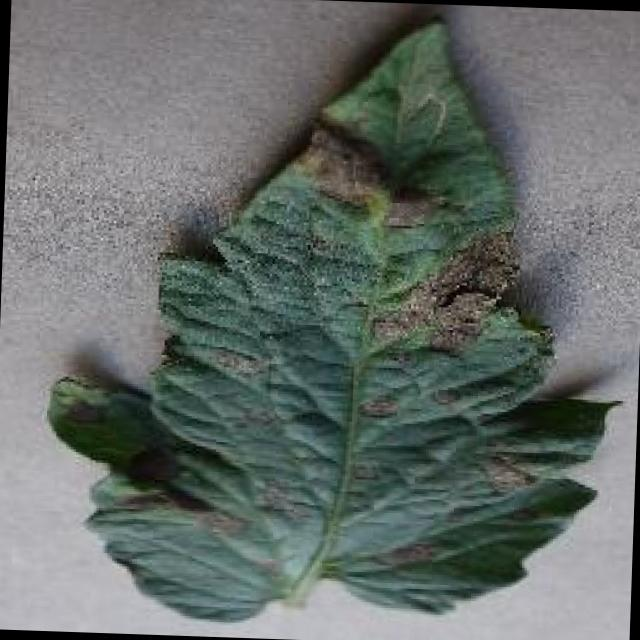Tomato_Early_Blight: (29, 25, 572, 572)
